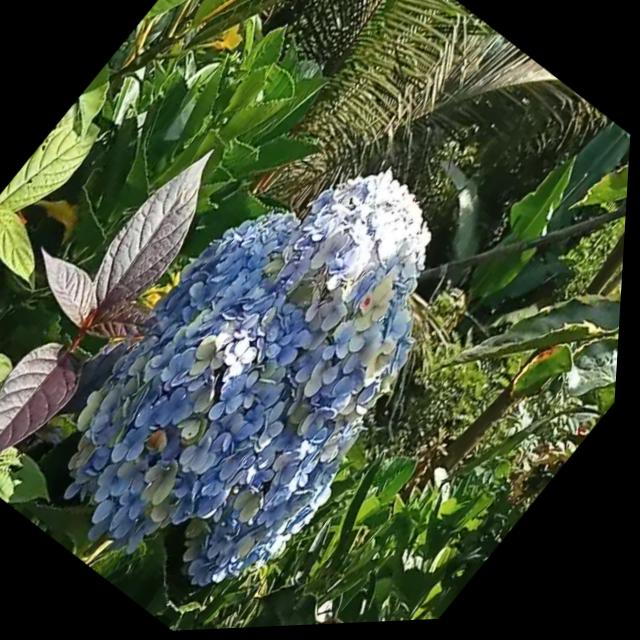Flower: (21, 112, 527, 638)
